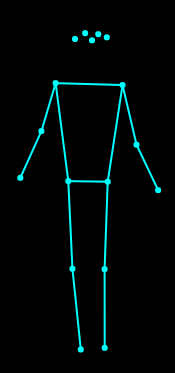mountain: (15, 23, 164, 354)
